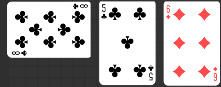5C: (147, 64, 155, 82)
8C: (11, 50, 29, 57)
